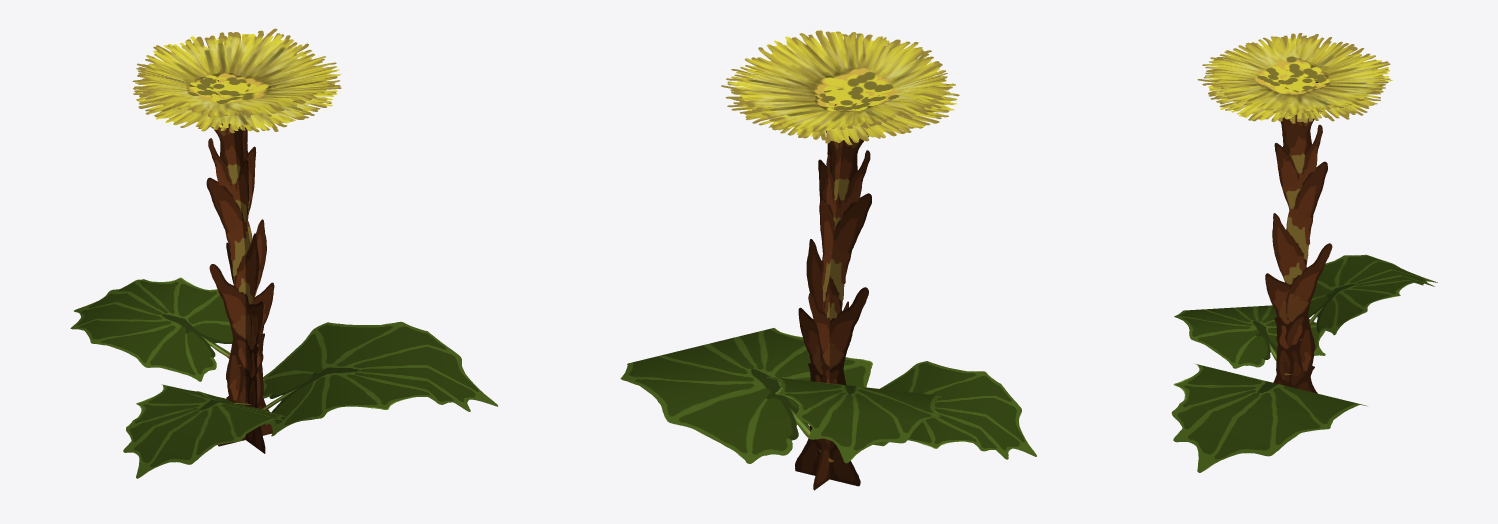
File: coltsfoot-external.fbx
The picture shows the model from 3 angles, left to right: view 1: azimuth 30°, elevation 25°; view 2: azimuth 150°, elevation 25°; view 3: azimuth 270°, elevation 25°; orthographic projection. The views are drawn at different scales.
Visible parts, largest first — view 1: Object_4; view 2: Object_4; view 3: Object_4.
Part boxes in pixels (x1,y1,x2,y2): Object_4: [70, 28, 497, 478]; Object_4: [620, 30, 1036, 490]; Object_4: [1171, 33, 1437, 472].
Bounding box in the file's own units: 481 × 384 × 399.
